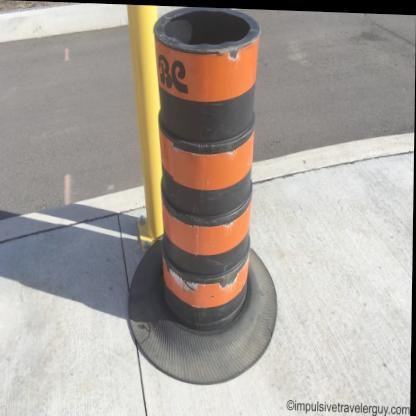obstacle: (147, 12, 276, 330)
